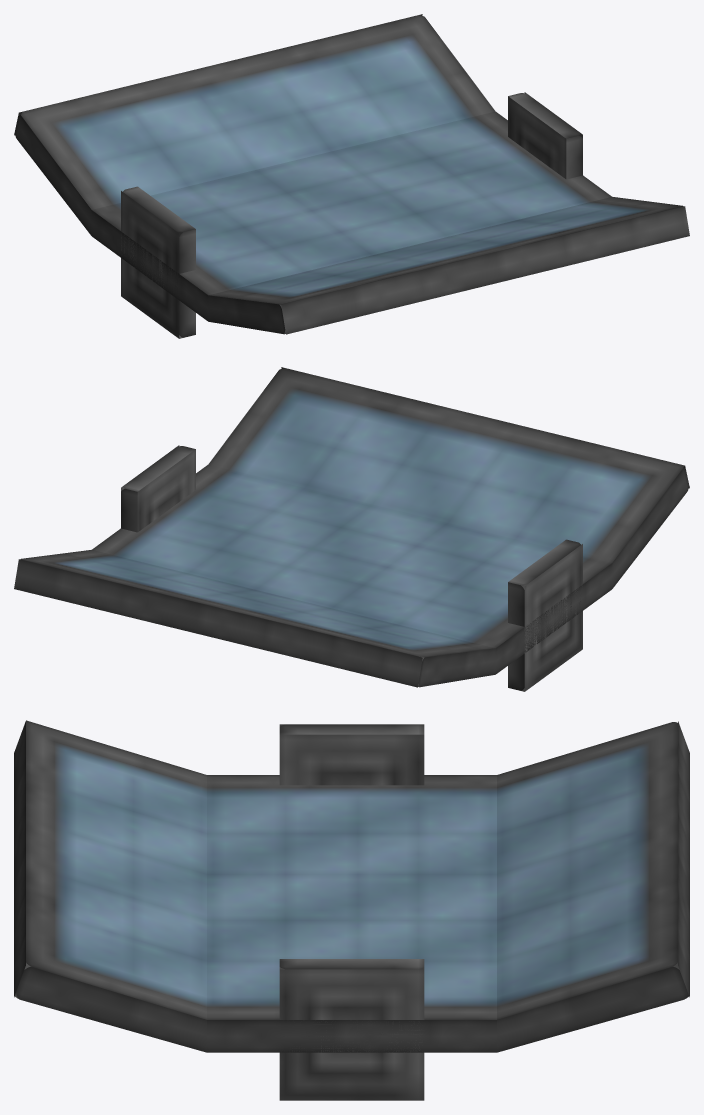
Rendered from solar_collector_panel.obj.
3 renders of one model, top to bottom at view 1: azimuth 30°, elevation 25°; view 2: azimuth 150°, elevation 25°; view 3: azimuth 270°, elevation 25°, orthographic. The views are drawn at different scales.
Visible parts, largest first — view 1: mirror; view 2: mirror; view 3: mirror.
Boxes of the visible parts, box(x1,y1,x2,y2) form: mirror: box(14, 14, 689, 338); mirror: box(14, 367, 689, 691); mirror: box(14, 720, 689, 1100).
Size of the model in its own units: 3 by 0.7734 by 3.5.
